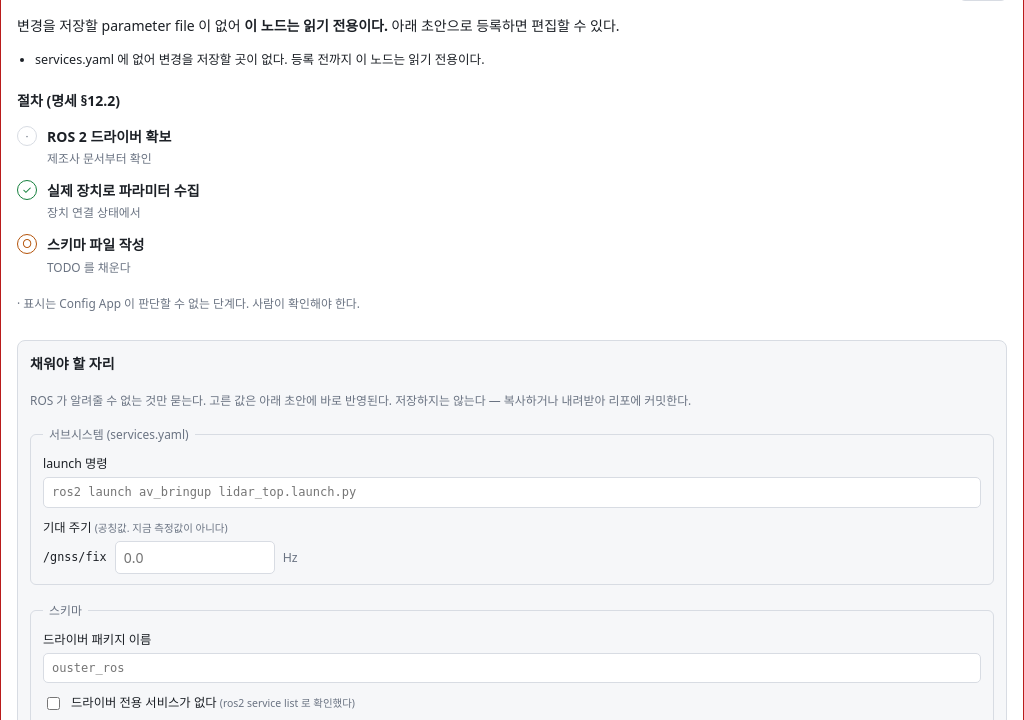
OnboardingPanel › 다 채우면 그대로 쓸 수 있다고 알린다
Expected: the heading "채워야 할 자리" is shown, [30,354,115,373]
Type "x" into the field with placeholder "ouster_ros".
click(512, 668); type("x")  # box [43,653,981,683]
(page scrolled)
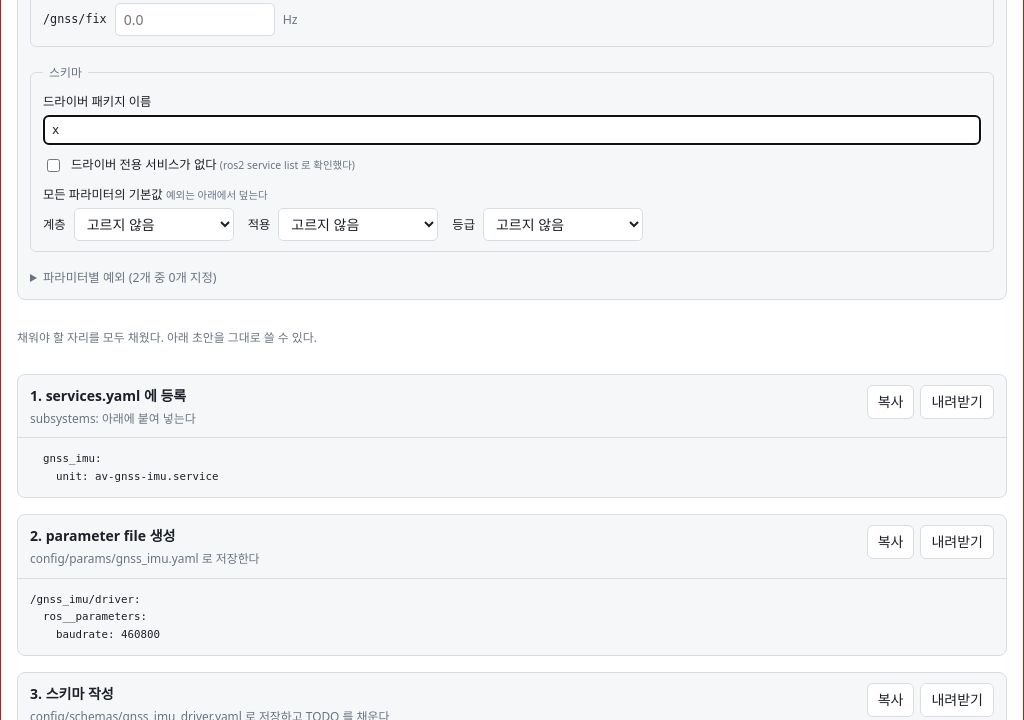
Result: the text "채워야 할 자리를 모두 채웠다. 아래 초안을 그대로 쓸 수 있다." is shown at [17,329,317,345]
